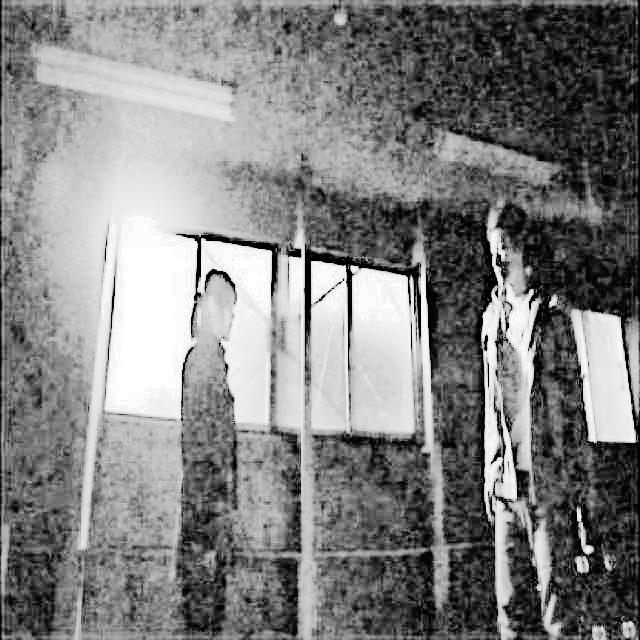Person: (479, 194, 593, 640), (176, 263, 237, 640)
